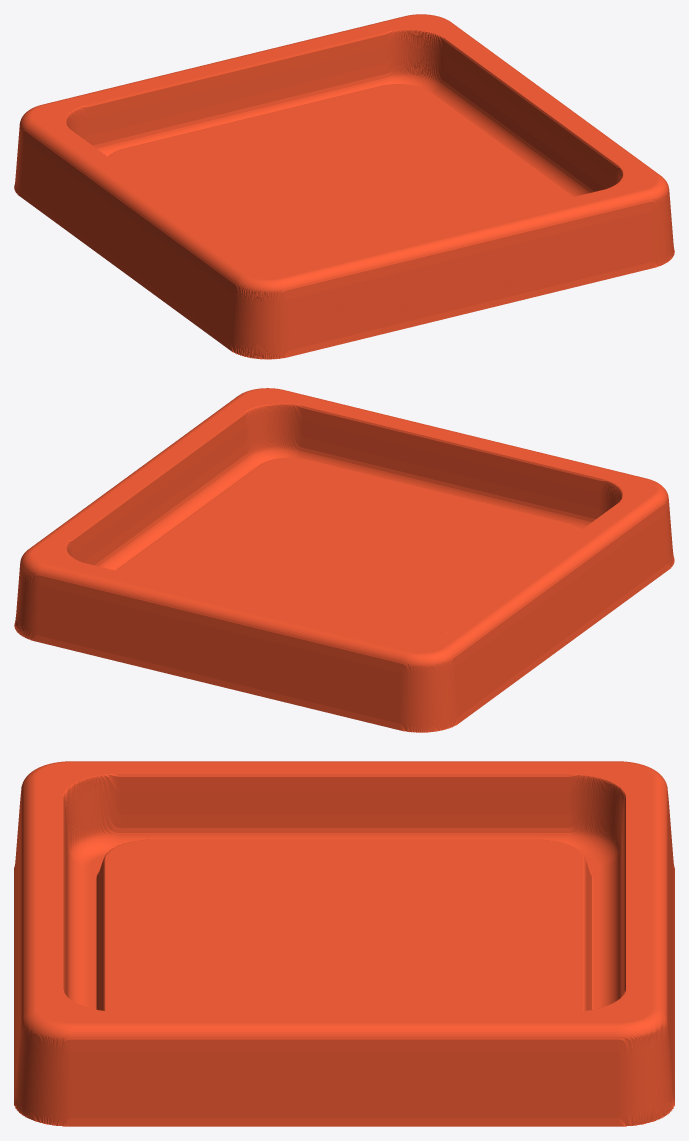
The model's file is mold.glb.
3 renders of one model, top to bottom at view 1: azimuth 30°, elevation 25°; view 2: azimuth 150°, elevation 25°; view 3: azimuth 270°, elevation 25°, orthographic. The views are drawn at different scales.
Parts seen in each view (by area): view 1: geometry_0; view 2: geometry_0; view 3: geometry_0.
Boxes of the visible parts, x1,y1,x2,y2 form: geometry_0: (14,14,674,359); geometry_0: (14,388,674,732); geometry_0: (14,761,674,1126).
Bounding box in the file's own units: 0.105 × 0.0165 × 0.105.
